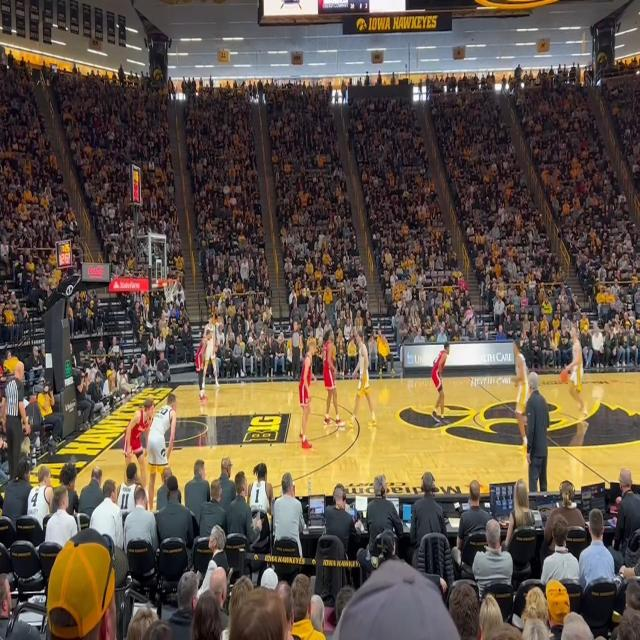Ball: (560, 370, 568, 383)
Hoop: (162, 278, 178, 302)
Player: (148, 393, 178, 511), (124, 398, 156, 502), (346, 331, 377, 428), (510, 340, 531, 450), (322, 329, 345, 427), (298, 342, 317, 450), (566, 326, 588, 419), (431, 342, 450, 424), (201, 314, 220, 389), (195, 330, 212, 403)
Ref: (1, 362, 30, 484), (290, 320, 302, 381)
